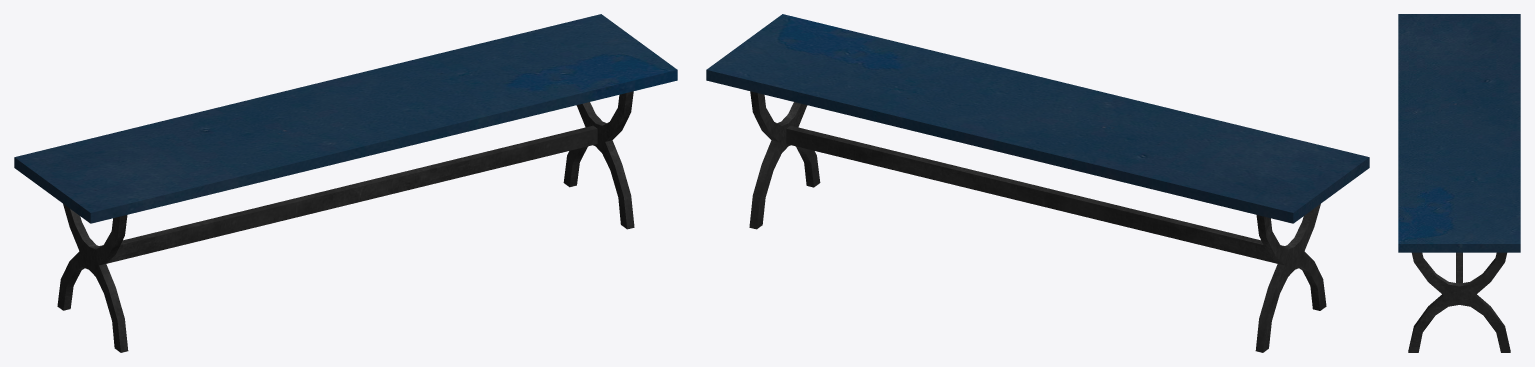
Rendered from bench.obj.
The picture shows the model from 3 angles, left to right: view 1: azimuth 30°, elevation 25°; view 2: azimuth 150°, elevation 25°; view 3: azimuth 270°, elevation 25°; orthographic projection. The views are drawn at different scales.
Parts seen in each view (by area): view 1: skin; view 2: skin; view 3: skin.
Part boxes in pixels (x1,y1,x2,y2): skin: (14,14,677,352); skin: (706,14,1369,352); skin: (1398,14,1520,352).
Bounding box in the file's own units: 8 × 2 × 1.8.
Materials: 1 (1 with a texture image).
